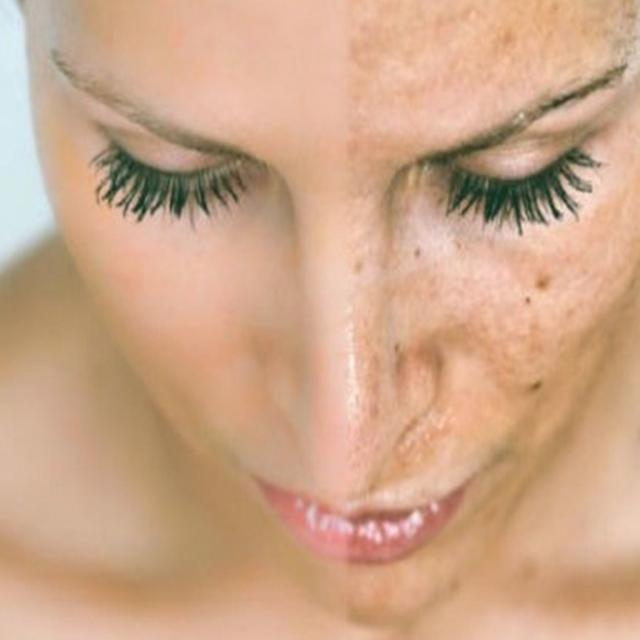Dark-Spots: (345, 0, 640, 634)
